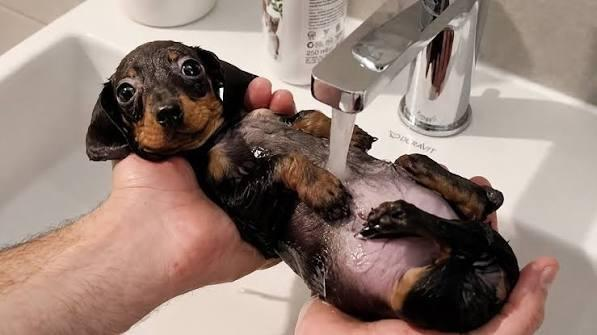puppy-dog: (85, 42, 521, 335)
